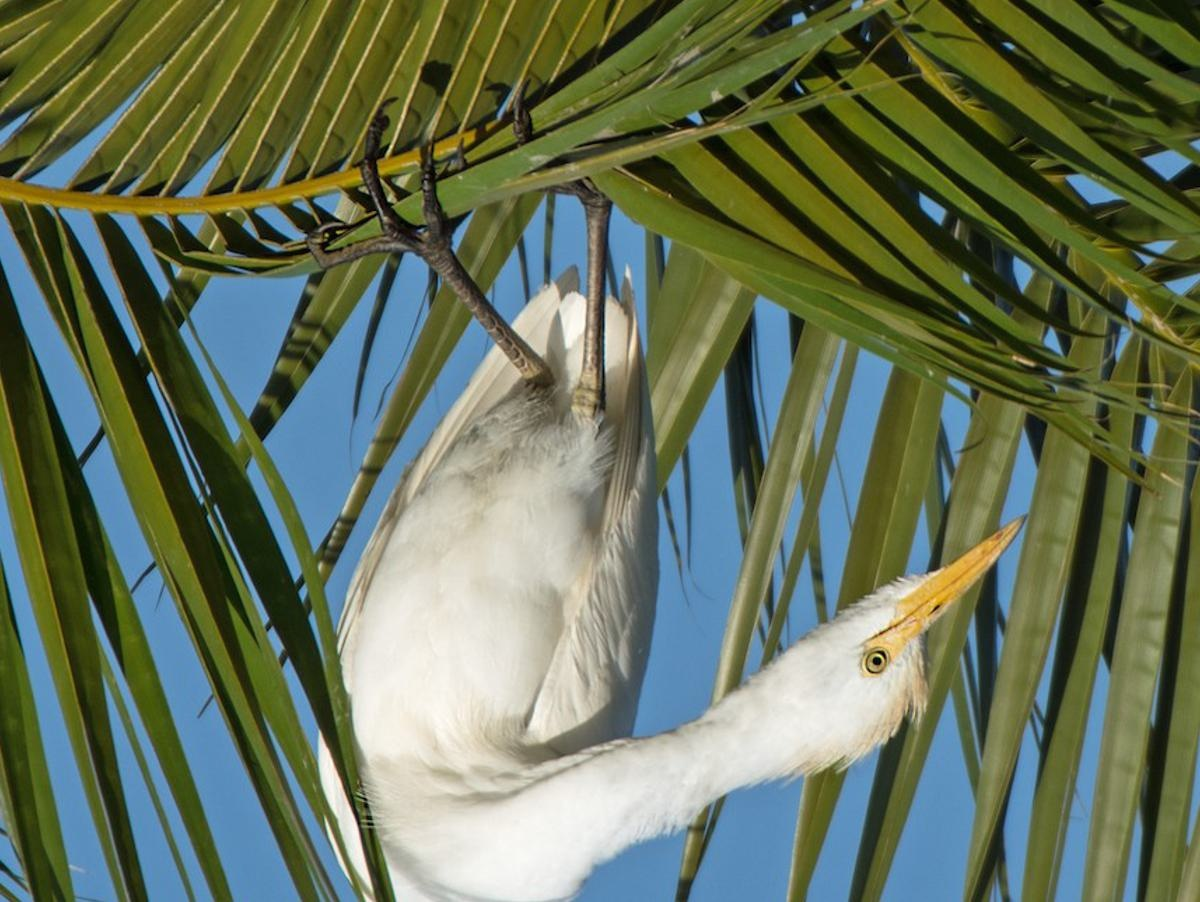egret: (128, 236, 1055, 902)
